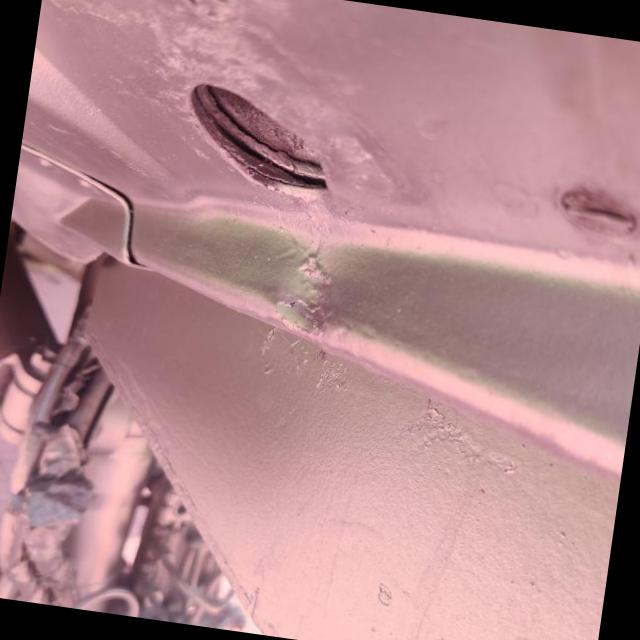Dent: (265, 233, 336, 338)
